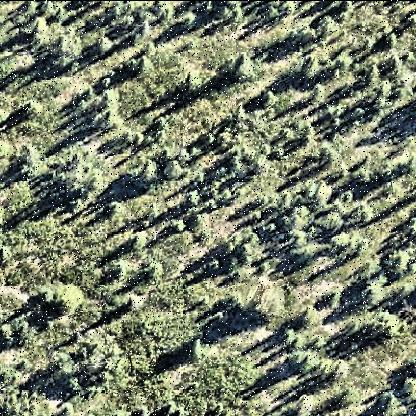tree-top: (231, 273, 282, 324), (58, 151, 102, 195), (76, 337, 116, 384), (14, 143, 46, 175), (52, 284, 86, 314), (291, 345, 320, 377), (294, 296, 322, 328), (376, 387, 406, 416), (48, 352, 75, 383), (103, 256, 128, 286), (235, 235, 262, 261), (316, 212, 344, 237), (335, 380, 360, 408), (371, 314, 400, 338), (361, 283, 386, 310), (229, 54, 254, 80), (301, 54, 323, 83), (139, 153, 161, 182), (30, 12, 56, 36), (97, 106, 122, 130), (132, 17, 156, 41), (316, 17, 339, 41), (227, 154, 251, 177), (186, 338, 206, 364), (98, 84, 119, 108), (176, 9, 202, 28), (22, 98, 43, 121), (323, 288, 344, 311), (182, 71, 200, 97), (130, 227, 154, 246), (328, 354, 348, 376), (169, 214, 189, 236), (164, 160, 182, 183), (96, 33, 114, 56), (126, 290, 142, 314), (138, 53, 154, 77), (185, 188, 205, 207), (145, 260, 163, 281), (206, 251, 224, 272), (262, 91, 278, 109)
